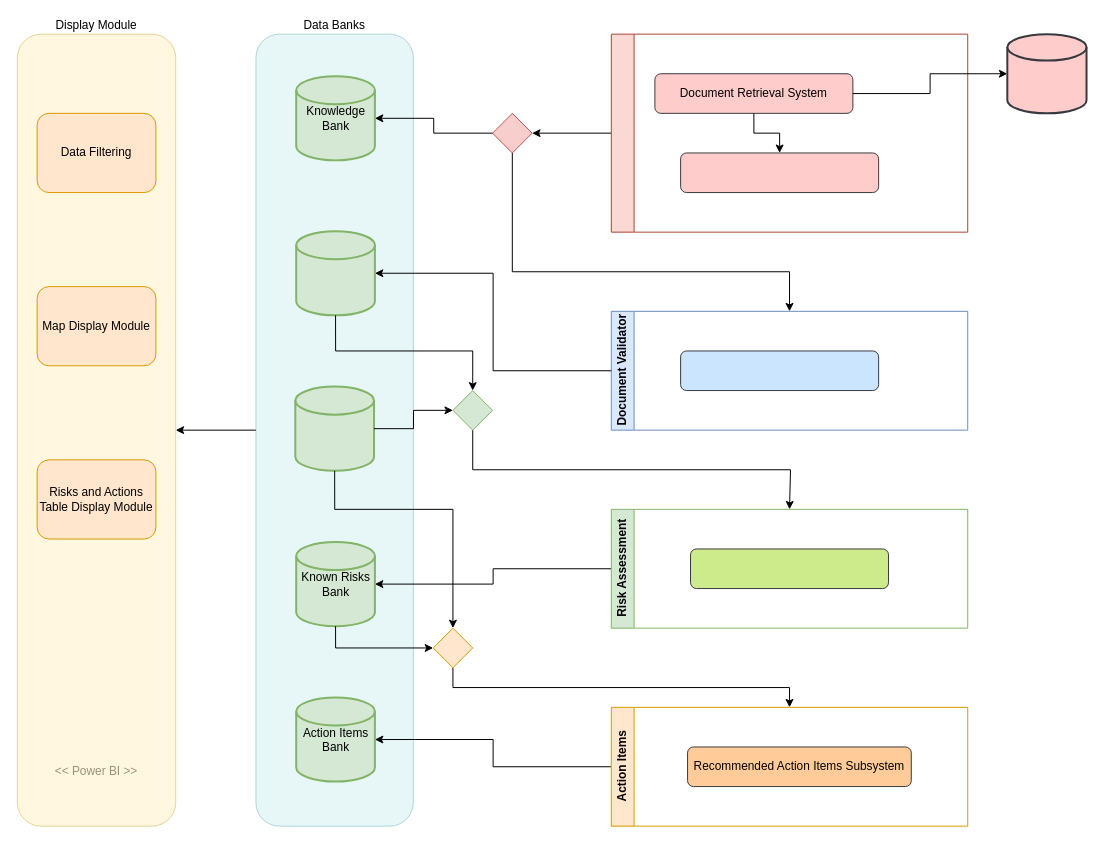
Image size: 1105x843. Some labels were removed from this diagram. The shapes that lost their labels are listed below. From the top down, each one's box as (x1, y1, x2, y2) in pixels, then its label:
(1006, 33, 1087, 114): Sources Bank
(610, 33, 968, 232): Information Retrieval System
(680, 152, 879, 193): Doc Parser
(295, 230, 375, 316): Trusted Sources Bank
(680, 350, 879, 391): AI Generated News Detector
(294, 385, 375, 471): Supply Chain
(690, 548, 889, 589): Risk Assessment Tool
